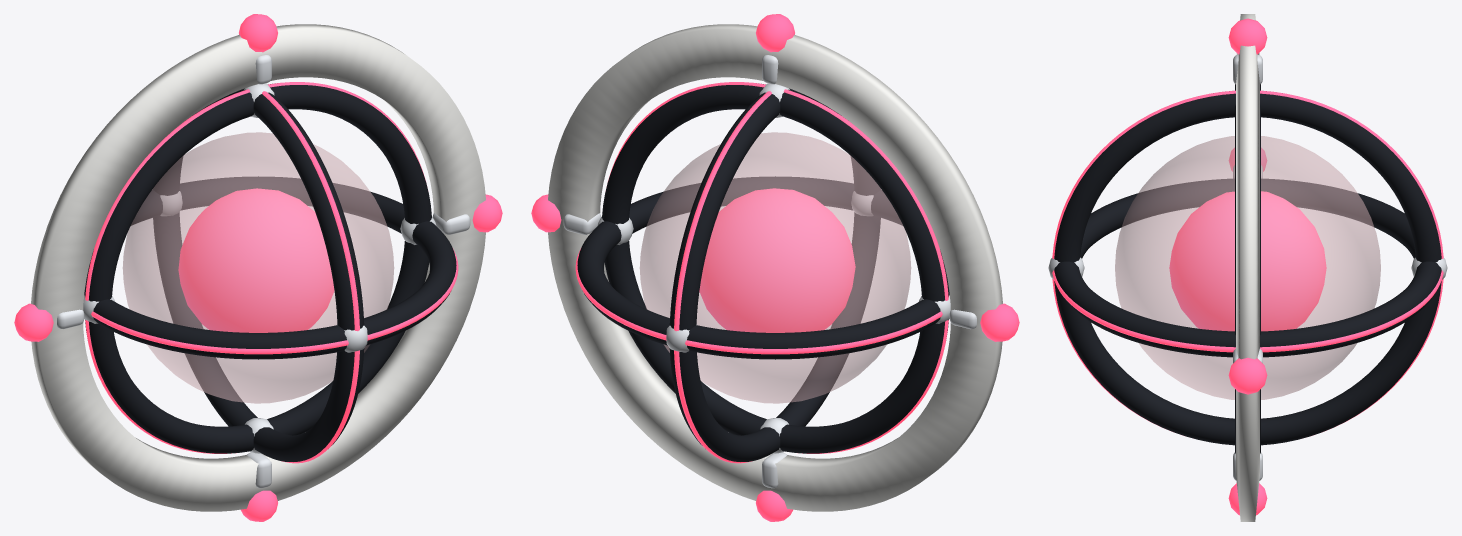
The model's file is nova.glb.
3 renders of one model, left to right at view 1: azimuth 30°, elevation 25°; view 2: azimuth 150°, elevation 25°; view 3: azimuth 270°, elevation 25°, orthographic. The views are drawn at different scales.
Visible parts, largest first — view 1: Halo, Shell, Cage0, Core, Cage2, Cage1, CageLight0, CageLight2, CageLight1, Bead2, Bead1, Bead3 (+3 smaller); view 2: Halo, Shell, Cage0, Core, Cage2, Cage1, CageLight0, CageLight2, CageLight1, Bead2, Bead1, Bead3 (+3 smaller); view 3: Shell, Cage2, Cage1, Core, Halo, CageLight2, CageLight1, Bead0, Bead1, Cage0, Bead3.
Part boxes in pixels (box(x1,y1,x2,y2)): Halo: box(31, 24, 485, 511); Shell: box(122, 132, 394, 403); Cage0: box(85, 83, 431, 453); Core: box(178, 188, 334, 332); Cage2: box(153, 88, 364, 461); Cage1: box(84, 176, 456, 359); CageLight0: box(85, 82, 425, 453); CageLight2: box(262, 91, 359, 463); CageLight1: box(91, 249, 458, 354); Bead2: box(14, 303, 53, 341); Bead1: box(239, 14, 277, 52); Bead3: box(241, 490, 277, 521); Halo: box(548, 24, 1002, 511); Shell: box(639, 132, 911, 403); Cage0: box(602, 83, 948, 453); Core: box(699, 188, 855, 332); Cage2: box(669, 88, 880, 461); Cage1: box(577, 176, 949, 359); CageLight0: box(608, 82, 948, 453); CageLight2: box(674, 91, 771, 463); CageLight1: box(575, 249, 942, 354); Bead2: box(980, 303, 1019, 341); Bead1: box(756, 14, 794, 52); Bead3: box(756, 490, 792, 521); Shell: box(1115, 136, 1380, 399); Cage2: box(1054, 93, 1441, 445); Cage1: box(1054, 179, 1441, 357); Core: box(1169, 191, 1326, 331); Halo: box(1236, 14, 1259, 521); CageLight2: box(1052, 90, 1443, 430); CageLight1: box(1052, 270, 1443, 352); Bead0: box(1228, 357, 1267, 394); Bead1: box(1228, 18, 1267, 54); Cage0: box(1235, 84, 1260, 453); Bead3: box(1228, 483, 1267, 515).
Size of the model in its own units: 0.904 by 0.904 by 0.66.
